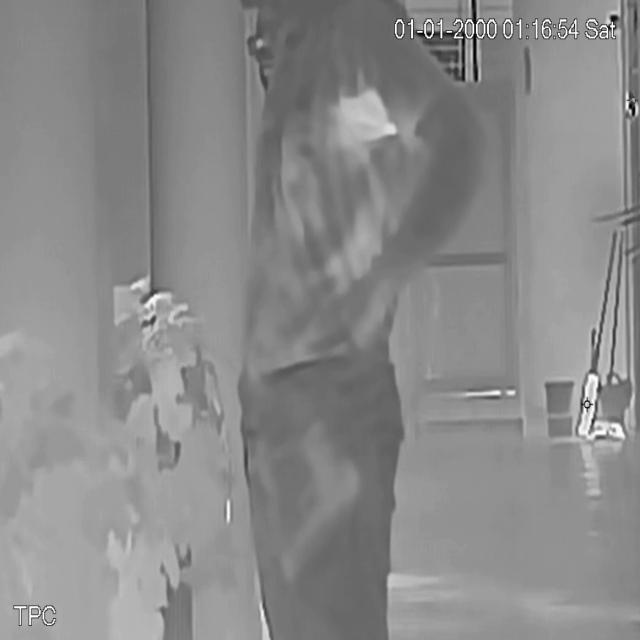Weapon: (244, 410, 374, 597)
